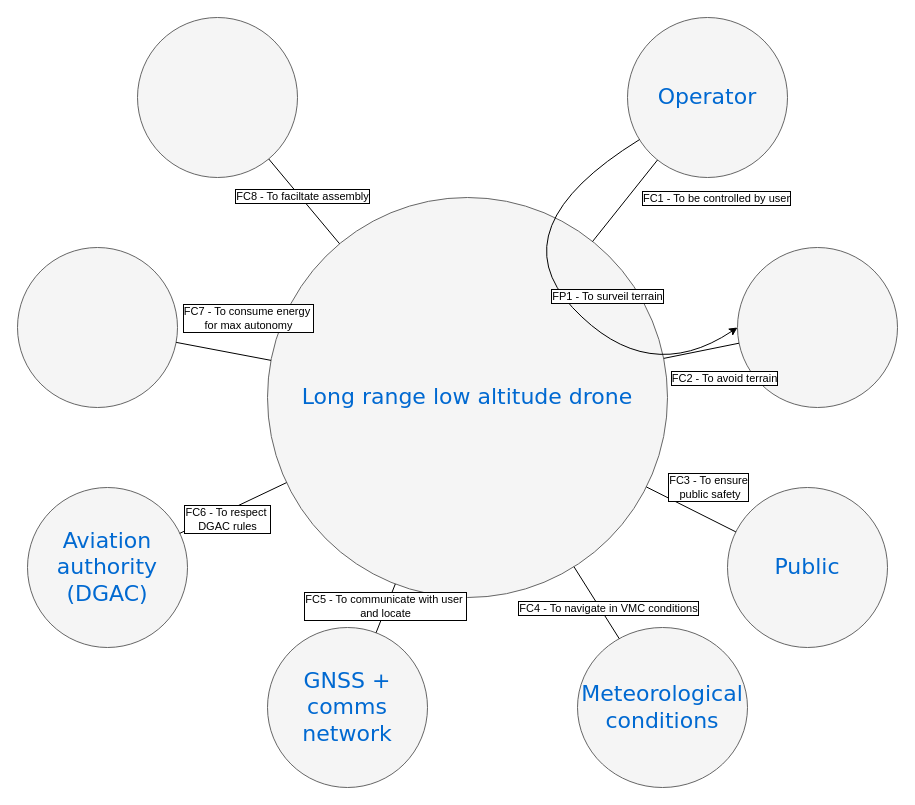
Image size: 915x805. Some labels were removed from this diagram. Each missing label, with the centre of its shape:
Assembly crew: the point at 217,97
Energy source: the point at 97,327
Terrain: the point at 817,327
